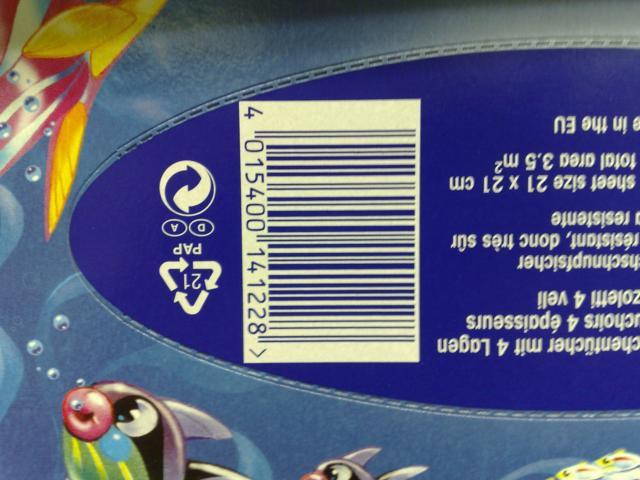Barcode: (239, 101, 421, 363)
